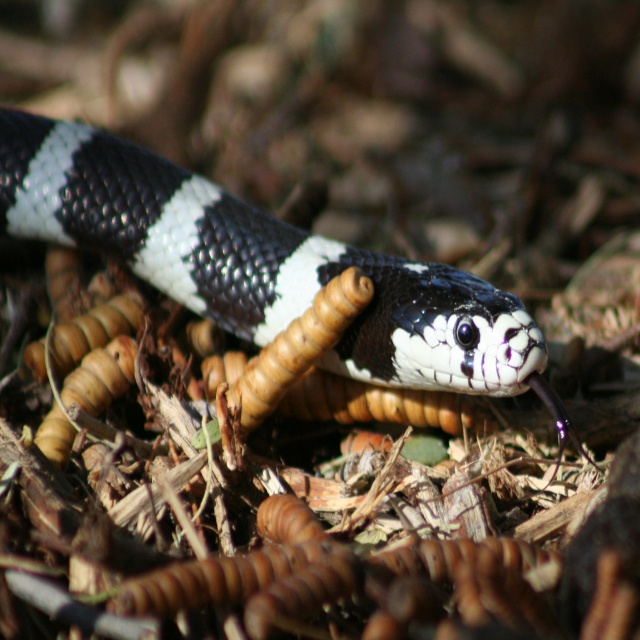Snake: (0, 105, 606, 495)
